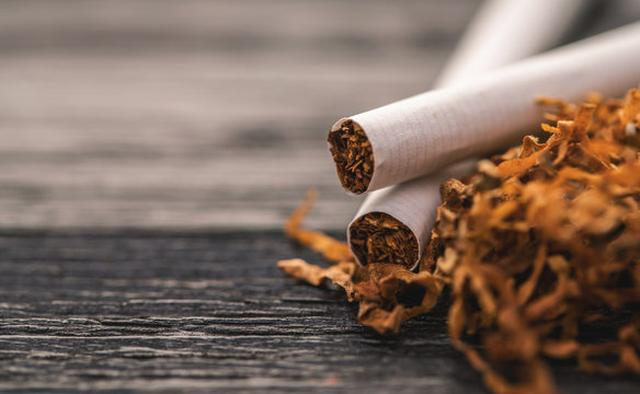Cigarette: (347, 1, 585, 275), (326, 18, 638, 195)
